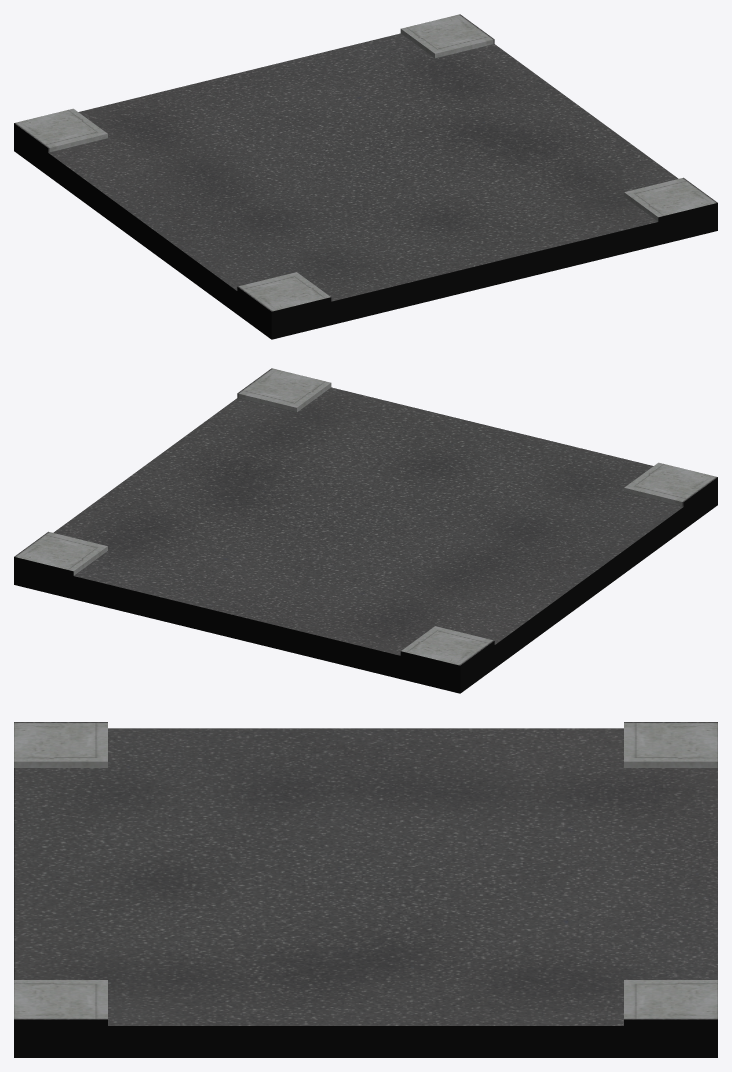
Rendered from street_crossOBJ.fbx.
3 renders of one model, top to bottom at view 1: azimuth 30°, elevation 25°; view 2: azimuth 150°, elevation 25°; view 3: azimuth 270°, elevation 25°, orthographic. The views are drawn at different scales.
Parts seen in each view (by area): view 1: cross; view 2: cross; view 3: cross.
Part boxes in pixels (x1,y1,x2,y2): cross: [14, 14, 717, 339]; cross: [14, 368, 717, 693]; cross: [14, 722, 717, 1057].
Bounding box in the file's own units: 10 × 0.6 × 10.
